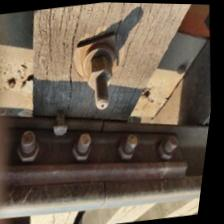person: (88, 174, 133, 214), (94, 113, 118, 137)
